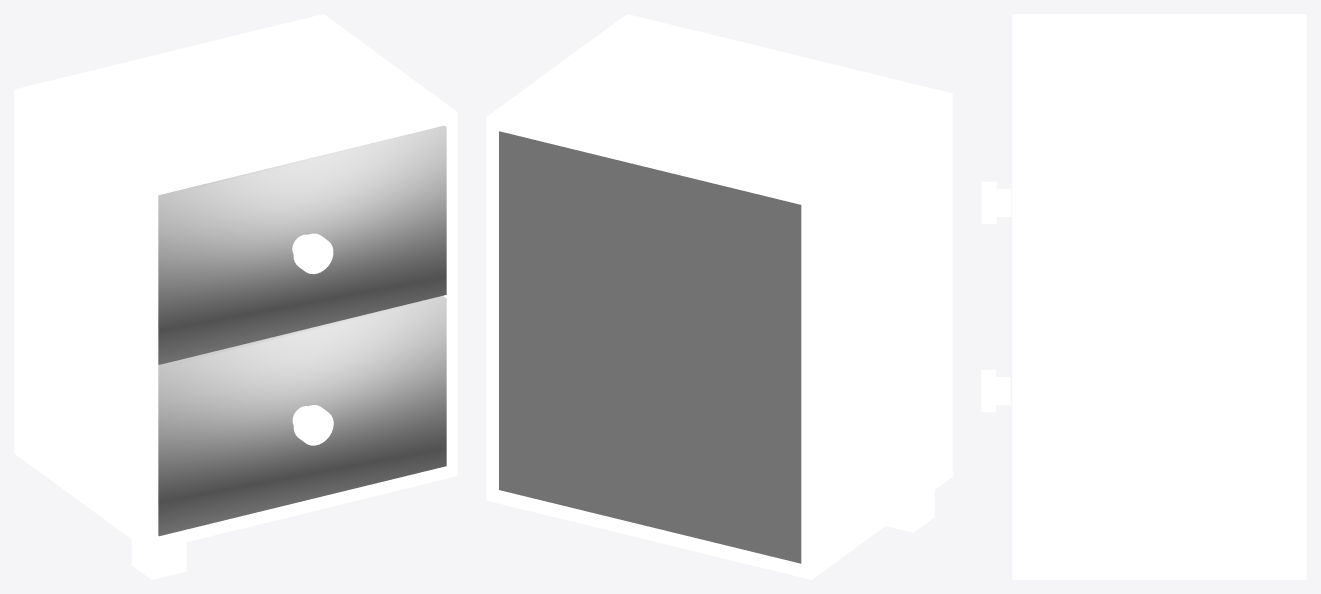
The model's file is table_pinus.glb.
The picture shows the model from 3 angles, left to right: view 1: azimuth 30°, elevation 25°; view 2: azimuth 150°, elevation 25°; view 3: azimuth 270°, elevation 25°; orthographic projection. The views are drawn at different scales.
Parts seen in each view (by area): view 1: Body, Front, Base, Hande 2, Handle; view 2: Body, Back, Base; view 3: Body, Hande 2, Handle.
Boxes of the visible parts, <box> form: Body: <box>14,14,457,551</box>; Front: <box>158,125,446,536</box>; Base: <box>131,540,186,579</box>; Hande 2: <box>292,233,333,274</box>; Handle: <box>292,405,333,445</box>; Body: <box>486,14,952,579</box>; Back: <box>499,131,801,563</box>; Base: <box>886,490,934,532</box>; Body: <box>1012,14,1306,579</box>; Hande 2: <box>981,181,1011,223</box>; Handle: <box>981,370,1010,412</box>.
Size of the model in its own units: 0.4 by 0.4945 by 0.3316.
Materials: 3 (2 with a texture image).
